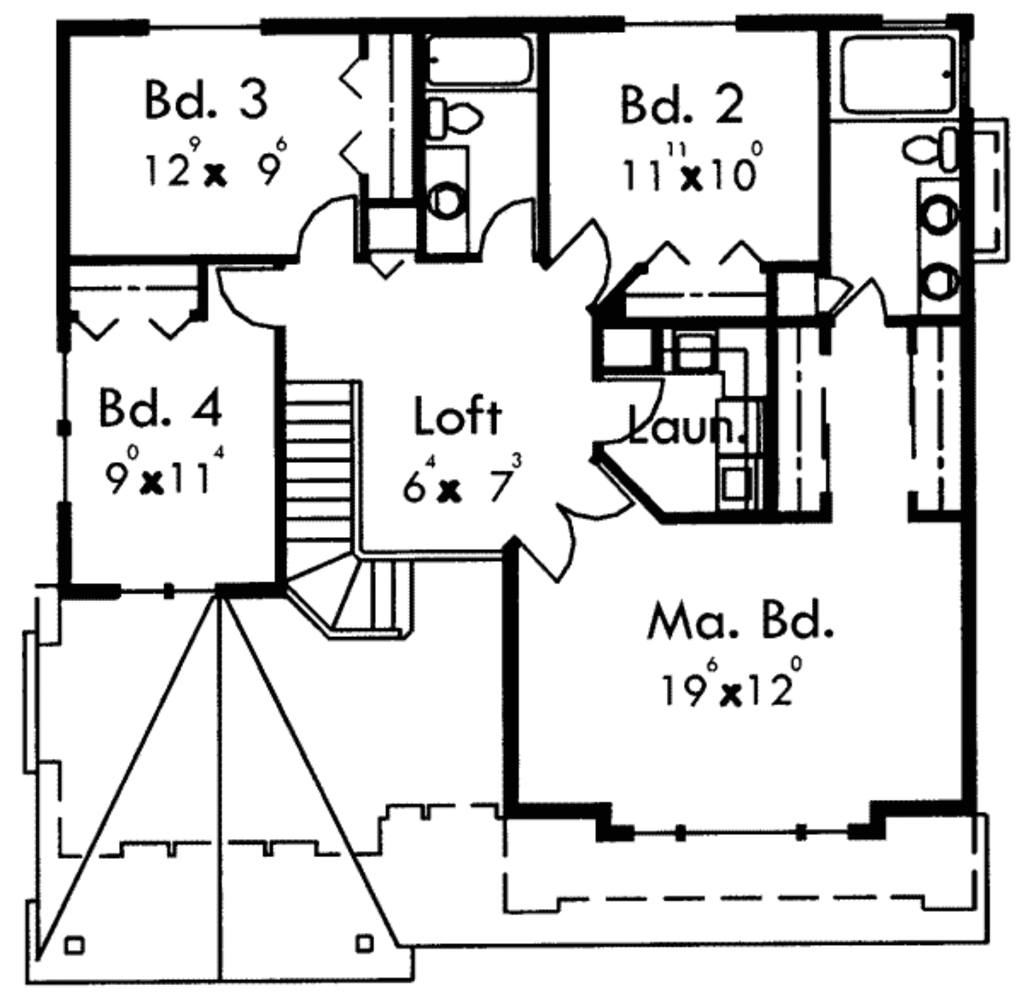door: (491, 459, 644, 593), (534, 211, 616, 301), (587, 364, 671, 450), (810, 265, 894, 334), (211, 256, 282, 331), (282, 194, 359, 259), (476, 199, 537, 259)
large_sink: (410, 96, 497, 148), (896, 122, 961, 182)
small_sink: (427, 148, 477, 257), (921, 190, 957, 321)
stairs: (277, 367, 439, 656)
tub: (834, 28, 964, 121), (413, 33, 559, 107)
window: (5, 628, 37, 774), (617, 10, 741, 39), (150, 13, 261, 39)
